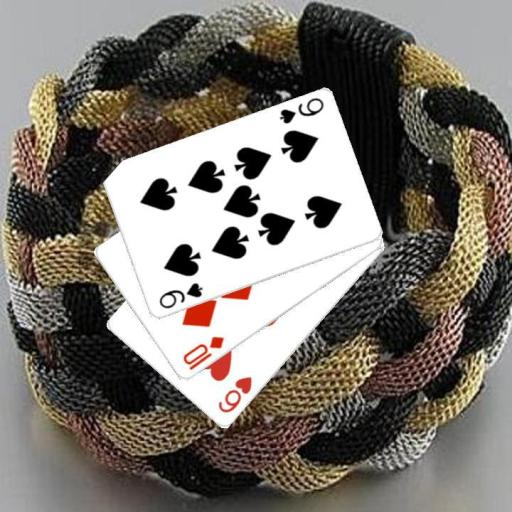10D: (180, 333, 226, 372)
6H: (215, 374, 254, 416)
9S: (155, 279, 204, 311), (276, 94, 325, 126)
